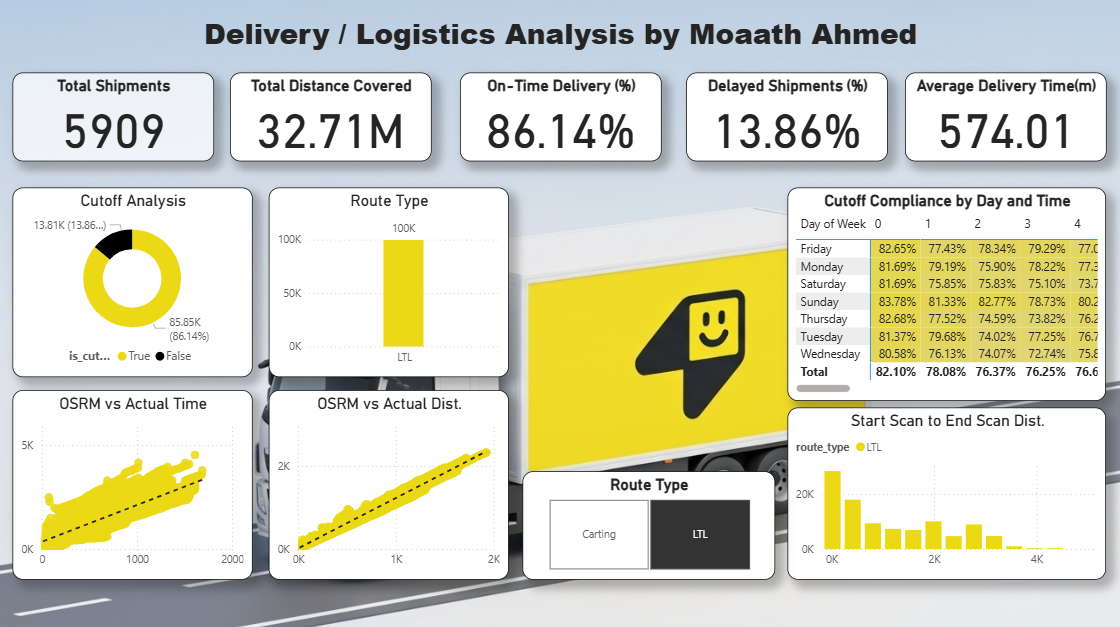

Layout of this report page (visuals, bound fields, positions):
{"tool":"powerbi","page":{"name":"Page 1","canvas":[1280,720],"ordinal":0},"visuals":[{"type":"card","title":"Total Shipments","fields":{"Values":["Count(delhivery_data.trip_uuid)"]},"box":[14.3,83.3,230,101.4],"z":0},{"type":"card","title":"Average Delivery Time(m)","fields":{"Values":["Avg(delhivery_data.actual_time)"]},"box":[1029.2,83.7,234.6,101.5],"z":1000},{"type":"card","title":"On-Time Delivery (%)","fields":{"Values":["delhivery_data.On-Time Delivery (%)"]},"box":[525.7,83.3,230,101.4],"z":2000},{"type":"card","title":"Delayed Shipments (%)","fields":{"Values":["delhivery_data.Delayed Shipments (%)"]},"box":[776.7,83.7,237.4,101.5],"z":3000},{"type":"card","title":"Total Distance Covered","fields":{"Values":["Sum(delhivery_data.actual_distance_to_destination)"]},"box":[263.5,83.7,234.6,101.5],"z":4000},{"type":"textbox","box":[197.1,10,887.1,68.6],"z":5000},{"type":"donutChart","title":"Cutoff Analysis","fields":{"Category":["delhivery_data.is_cutoff"],"Y":["CountNonNull(delhivery_data.trip_uuid)"]},"box":[14.3,214.3,274.3,217.1],"z":6000},{"type":"pivotTable","title":"Cutoff Compliance by Day and Time","fields":{"Rows":["delhivery_data.Day of Week"],"Columns":["delhivery_data.Hour of Day"],"Values":["delhivery_data.On-Time Delivery (%)"]},"box":[900,214.3,364.3,244.3],"z":7000},{"type":"scatterChart","title":"OSRM vs Actual Time","fields":{"X":["delhivery_data.osrm_time"],"Y":["delhivery_data.actual_time"]},"box":[14.3,445.7,274.3,217.1],"z":8000},{"type":"columnChart","title":"Route Type","fields":{"Category":["delhivery_data.route_type"],"Y":["CountNonNull(delhivery_data.trip_uuid)"]},"box":[307.1,214.3,274.3,217.1],"z":9000},{"type":"columnChart","title":"Start Scan to End Scan Dist.","fields":{"Category":["delhivery_data.start_scan_to_end_scan (bins)"],"Y":["CountNonNull(delhivery_data.trip_uuid)"],"Series":["delhivery_data.route_type"]},"box":[900,465.7,364.3,197.1],"z":10000},{"type":"scatterChart","title":"OSRM vs Actual Dist.","fields":{"X":["delhivery_data.actual_distance_to_destination"],"Y":["delhivery_data.osrm_distance"]},"box":[307.1,445.7,274.3,217.1],"z":11000},{"type":"slicer","title":"Route Type","fields":{"Values":["delhivery_data.route_type"]},"box":[597.1,538.6,288.6,124.3],"z":12000}]}

Visuals, with their boxes in screenshot pixels (x1, y1, x2, y2), scaled from the page's 1280x720 canvas onto the 1120x627 screenshot:
"Total Shipments" card: Rect(13, 73, 214, 161)
"Average Delivery Time(m)" card: Rect(901, 73, 1106, 161)
"On-Time Delivery (%)" card: Rect(460, 73, 661, 161)
"Delayed Shipments (%)" card: Rect(680, 73, 887, 161)
"Total Distance Covered" card: Rect(231, 73, 436, 161)
textbox: Rect(172, 9, 949, 68)
"Cutoff Analysis" donutChart: Rect(13, 187, 253, 376)
"Cutoff Compliance by Day and Time" pivotTable: Rect(788, 187, 1106, 399)
"OSRM vs Actual Time" scatterChart: Rect(13, 388, 253, 577)
"Route Type" columnChart: Rect(269, 187, 509, 376)
"Start Scan to End Scan Dist." columnChart: Rect(788, 406, 1106, 577)
"OSRM vs Actual Dist." scatterChart: Rect(269, 388, 509, 577)
"Route Type" slicer: Rect(522, 469, 775, 577)
